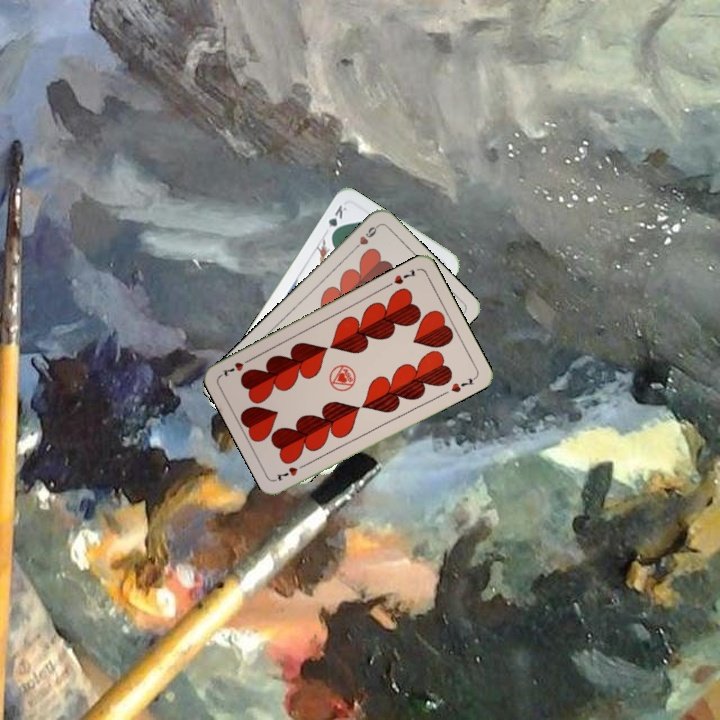GK: (321, 201, 349, 239)
H7: (272, 459, 310, 483), (383, 265, 419, 290)
H9: (349, 221, 382, 253)
